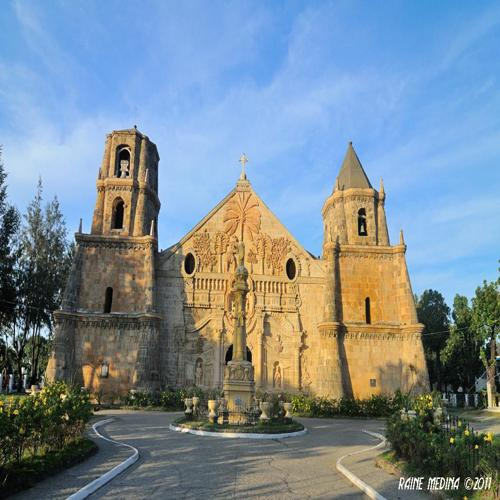Miagao Church: (43, 90, 435, 411)
